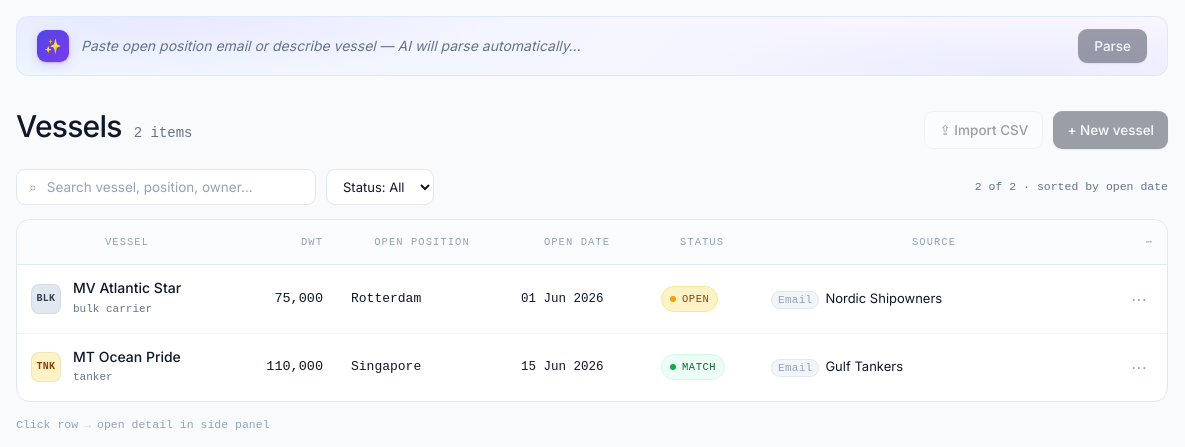
Test: VesselsClient › filters rows by search text
Type "atlantic" into the field named "Search vessels" at (175, 187), box [47,177,303,197]
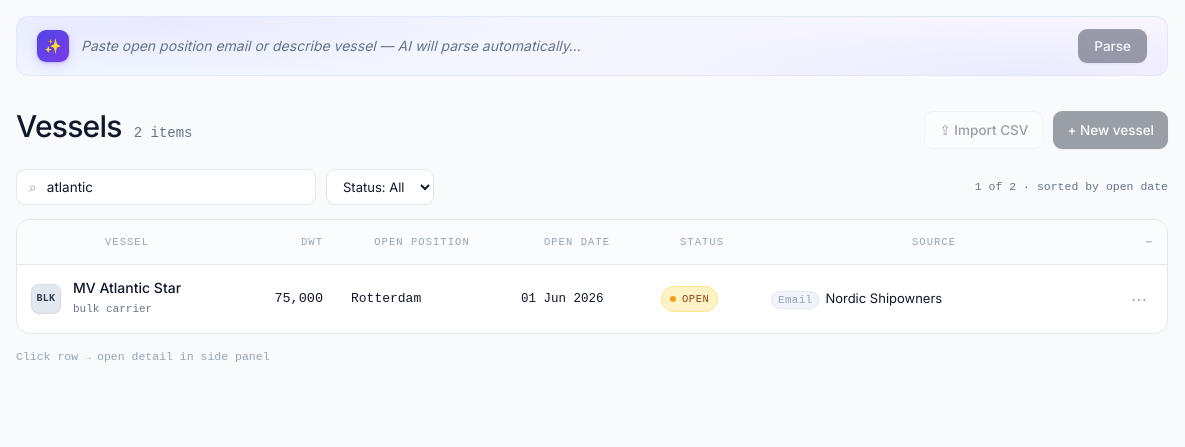
Expected: the text "MV Atlantic Star" is shown, [73,279,181,296]
Expected: the text "MT Ocean Pride" is gone
